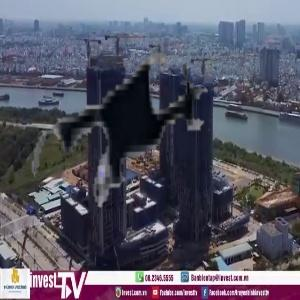drone: (19, 16, 250, 247)
